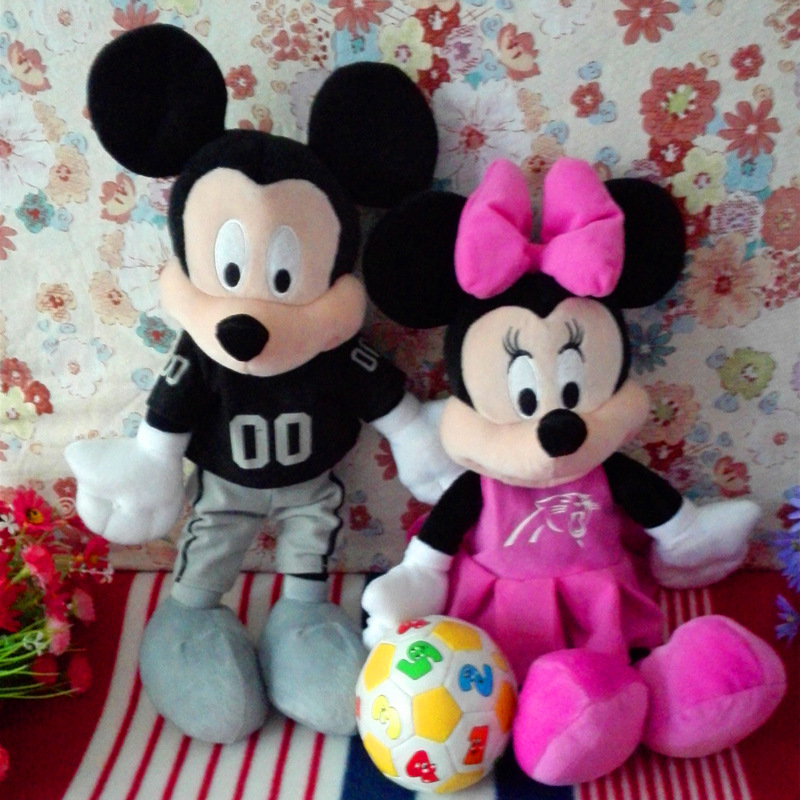Mickey: (86, 24, 442, 381)
